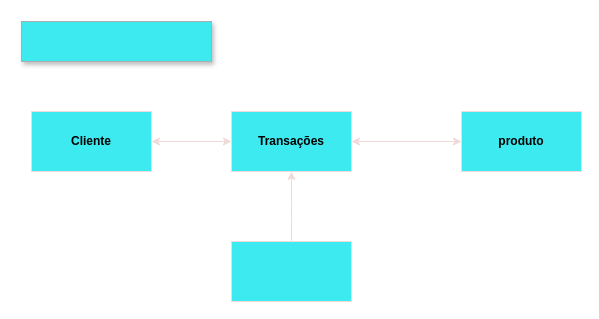
Some shapes in this 599 by 319 pixel diagram are drawn without their labels. The shapes that lost their labels are listed below. From the top down, each one's centre as x and y in pixels, then its label:
the point at 117,42: Livraria
the point at 291,271: vendedor
